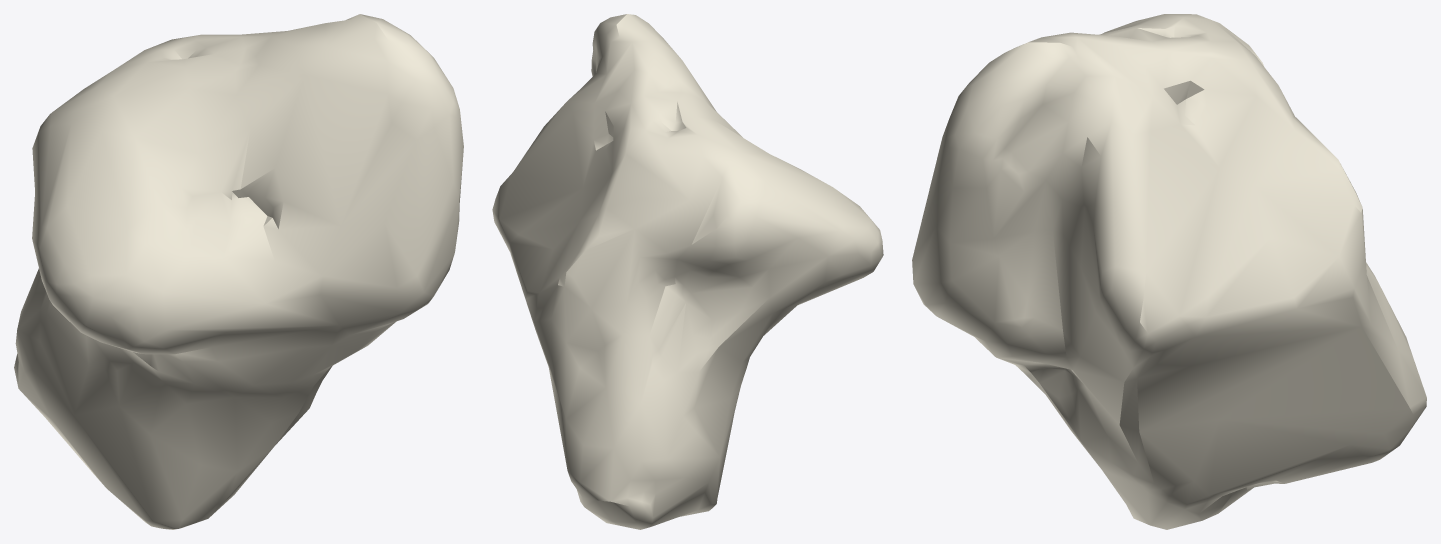
The model's file is fma24443.glb.
3 views of the same model, side by side, from view 1: azimuth 30°, elevation 25°; view 2: azimuth 150°, elevation 25°; view 3: azimuth 270°, elevation 25° (orthographic). The views are drawn at different scales.
Visible parts, largest first — view 1: FMA24443; view 2: FMA24443; view 3: FMA24443.
Boxes of the visible parts, box(x1,y1,x2,y2) form: FMA24443: box(14, 14, 463, 529); FMA24443: box(492, 14, 883, 529); FMA24443: box(912, 14, 1426, 529).
Size of the model in its own units: 0.0172 by 0.0201 by 0.0171.
